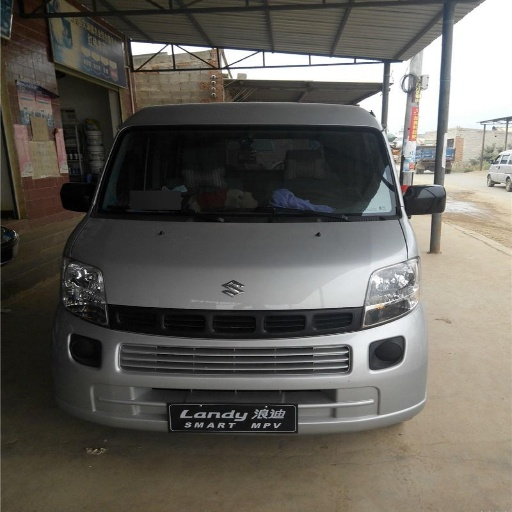front_bumper: (57, 302, 427, 431)
front_right_light: (63, 258, 111, 326)
hood: (74, 216, 408, 309)
left_mirror: (406, 181, 445, 215)
